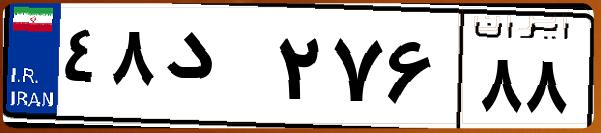2: (270, 28, 330, 110)
4: (57, 26, 110, 100)
6: (385, 28, 445, 110)
7: (330, 28, 385, 110)
8: (475, 38, 525, 113), (525, 38, 570, 115), (110, 28, 158, 98)
د: (158, 20, 270, 120)
